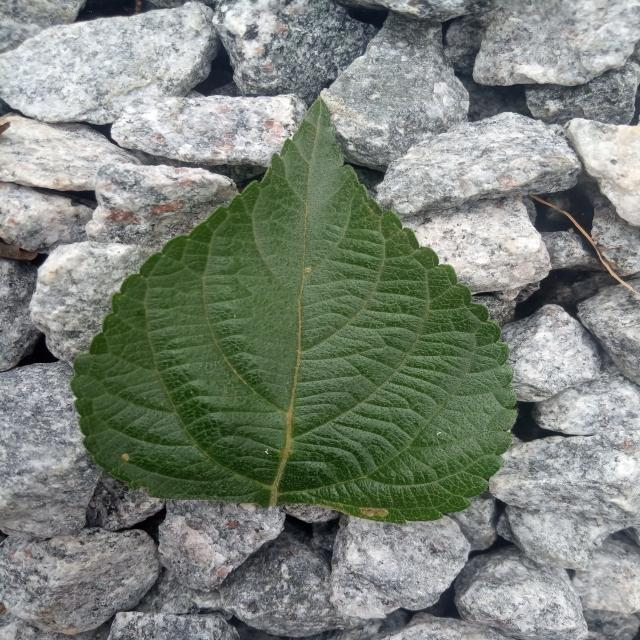Lantana: (72, 101, 515, 522)
